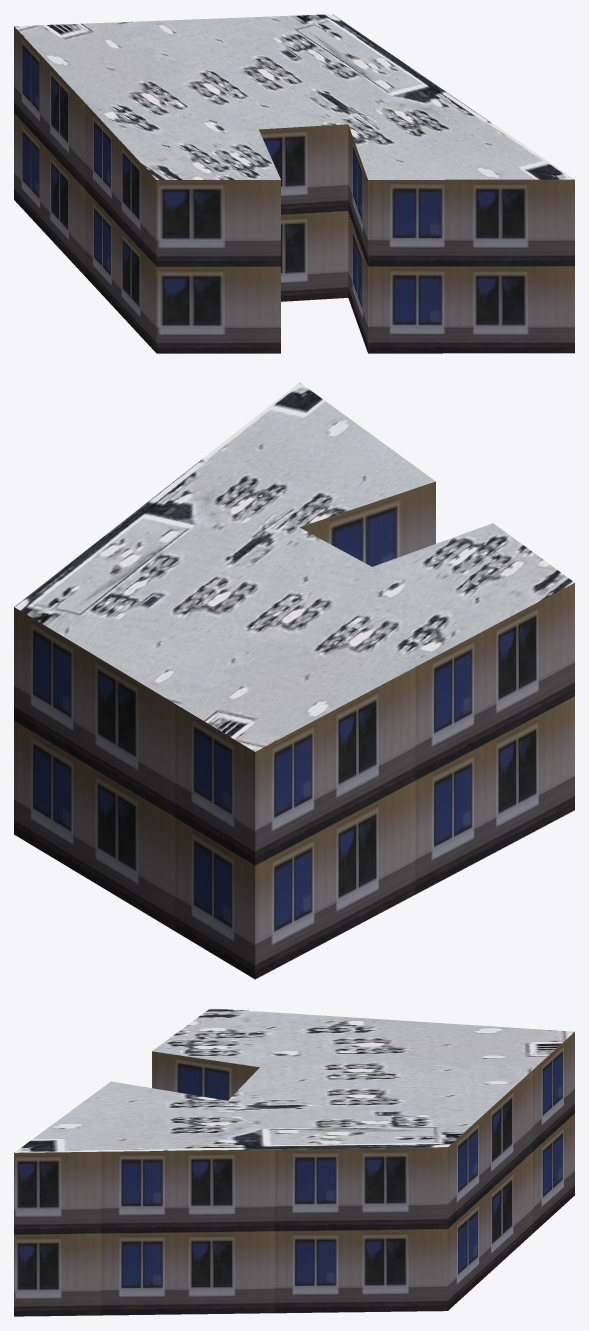
File: ResTex__756.fbx
The picture shows the model from 3 angles, top to bottom: view 1: azimuth 30°, elevation 25°; view 2: azimuth 150°, elevation 25°; view 3: azimuth 270°, elevation 25°; orthographic projection. The views are drawn at different scales.
Parts seen in each view (by area): view 1: CityEngineMaterial_5_m, CityEngineMaterial_m; view 2: CityEngineMaterial_5_m, CityEngineMaterial_m; view 3: CityEngineMaterial_5_m, CityEngineMaterial_m.
Part boxes in pixels (x1,y1,x2,y2): CityEngineMaterial_5_m: (14,26,574,353); CityEngineMaterial_m: (14,14,574,179); CityEngineMaterial_5_m: (14,481,574,979); CityEngineMaterial_m: (14,382,574,751); CityEngineMaterial_5_m: (14,1032,574,1316); CityEngineMaterial_m: (14,1008,574,1152).
Bounding box in the file's own units: 11.36 × 6 × 18.63.
2 materials, 2 textured.
